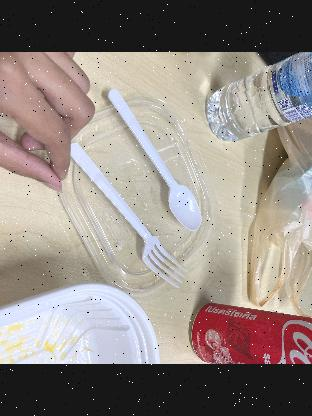Others: (64, 142, 186, 290), (107, 89, 205, 233)
